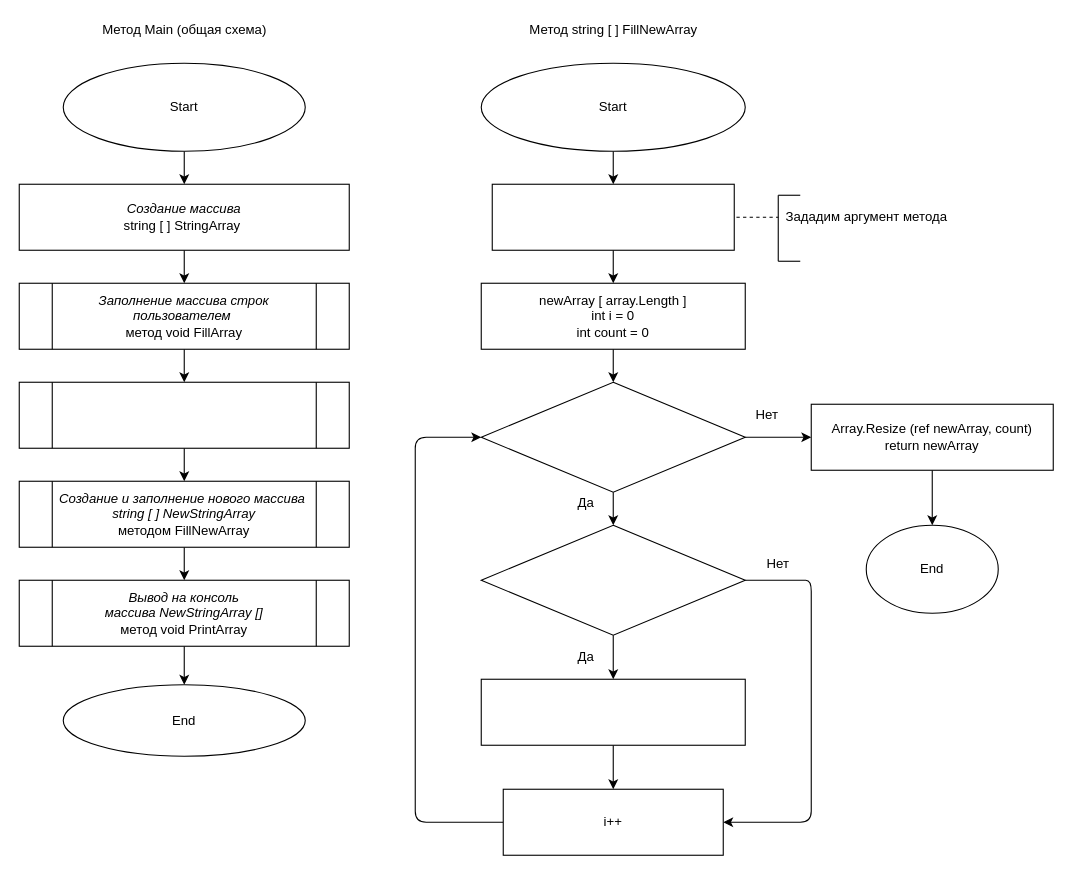
Image size: 1073x875. Some labels were removed from this diagram. The shapes that lost their labels are listed below. From the top down, each one's centre as x and y in pixels, then its label:
At (612,216): "string [ ] array".
At (183,414): "Вывод на консоль массива Array метод void PrintArray".
At (612,436): "while ( i < array.Length )".
At (612,579): "if ( array[ i ].Length <= 3)".
At (612,711): "newArray[count] = array [ i ] count++".
